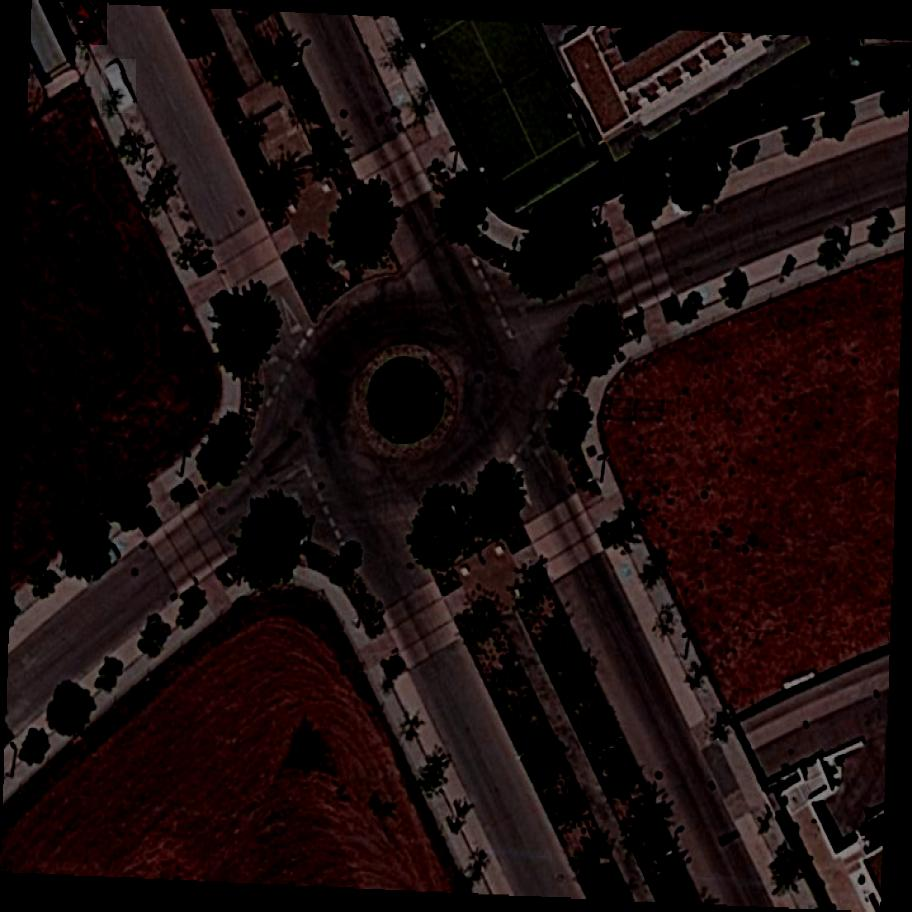small-vehicle: (100, 59, 137, 114)
